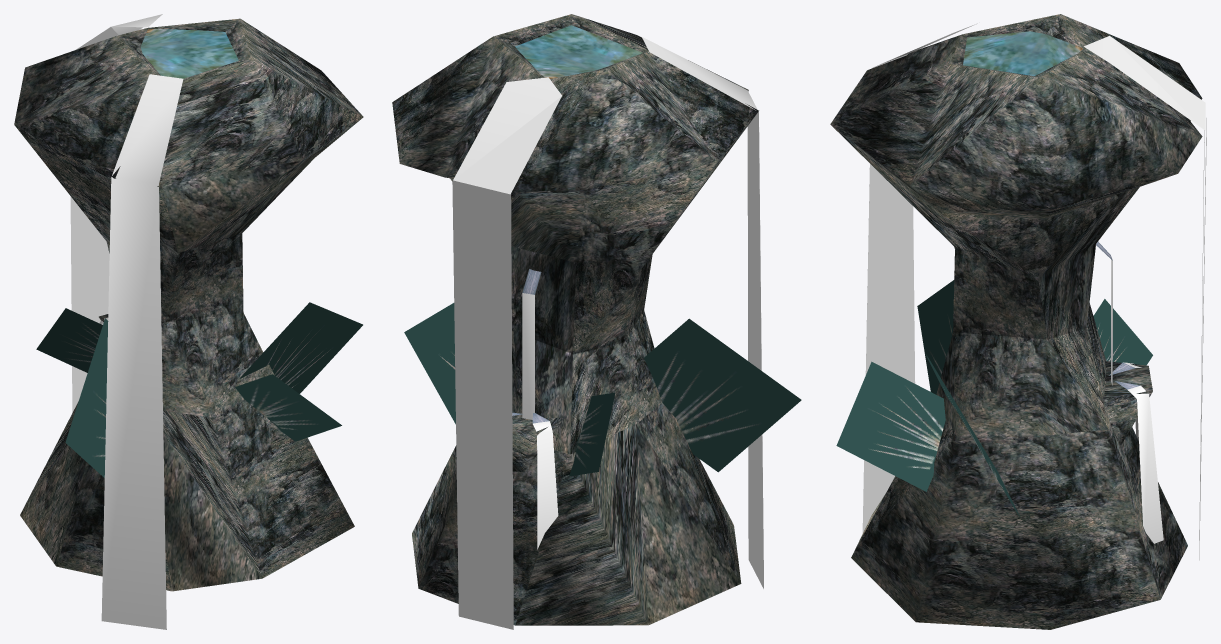
The model's file is rock_crystl_geyser_lrg_l4.fbx.
3 renders of one model, left to right at view 1: azimuth 30°, elevation 25°; view 2: azimuth 150°, elevation 25°; view 3: azimuth 270°, elevation 25°, orthographic. The views are drawn at different scales.
Parts seen in each view (by area): view 1: mesh_node; view 2: mesh_node; view 3: mesh_node.
Boxes of the visible parts, left/top/right/bottom form: mesh_node: left=14, top=14, right=363, bottom=629; mesh_node: left=392, top=14, right=801, bottom=629; mesh_node: left=830, top=14, right=1206, bottom=629.
Size of the model in its own units: 25.24 by 37.15 by 22.87.
